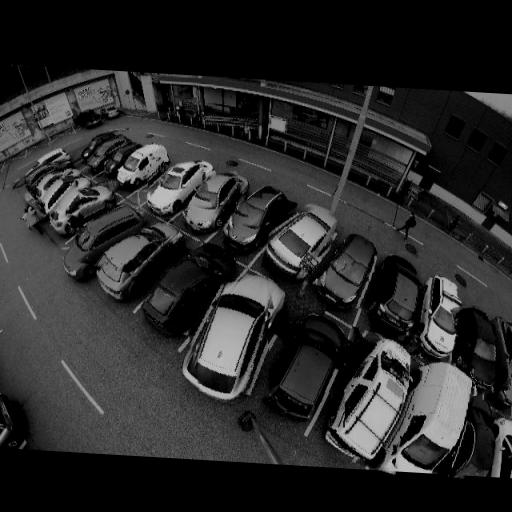busy: (185, 276, 285, 408), (329, 328, 418, 473), (398, 356, 474, 478), (268, 309, 344, 428), (144, 244, 229, 341), (96, 223, 176, 305), (265, 200, 335, 284), (455, 300, 512, 398), (74, 199, 142, 273), (319, 229, 380, 310), (417, 271, 466, 366), (180, 170, 248, 237), (225, 184, 287, 254), (374, 255, 423, 334), (147, 159, 210, 217), (46, 184, 109, 235), (116, 143, 166, 192), (31, 168, 81, 216), (88, 132, 128, 174), (104, 137, 134, 173)
